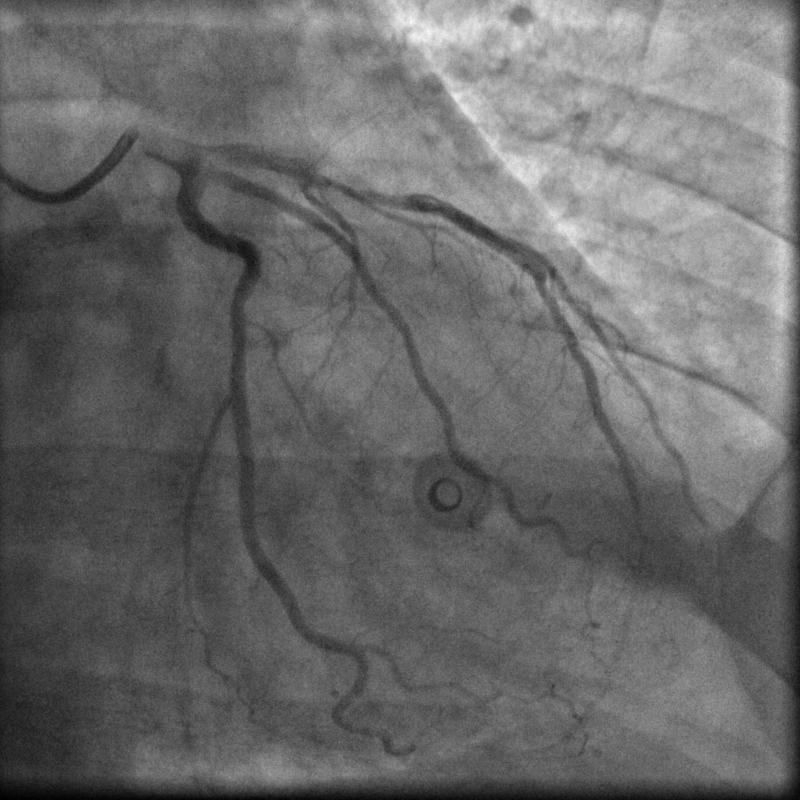Stenosis: (328, 172, 416, 213)
